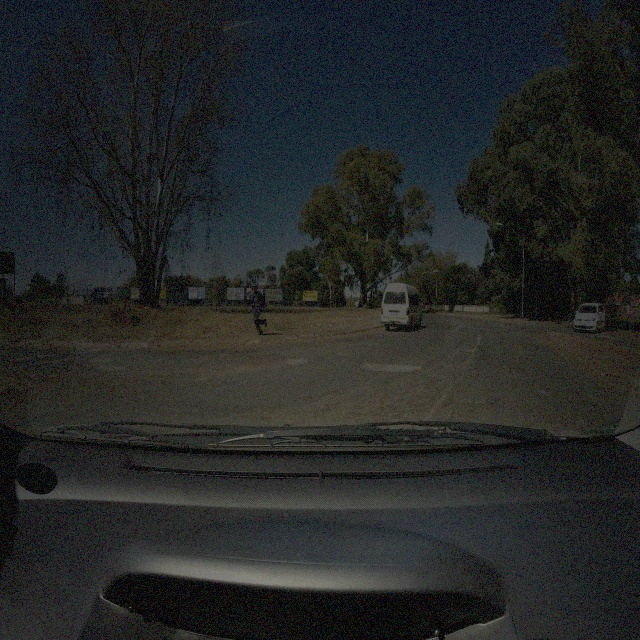pothole: (358, 360, 423, 373), (95, 364, 128, 372), (284, 357, 308, 367), (90, 354, 114, 364)
